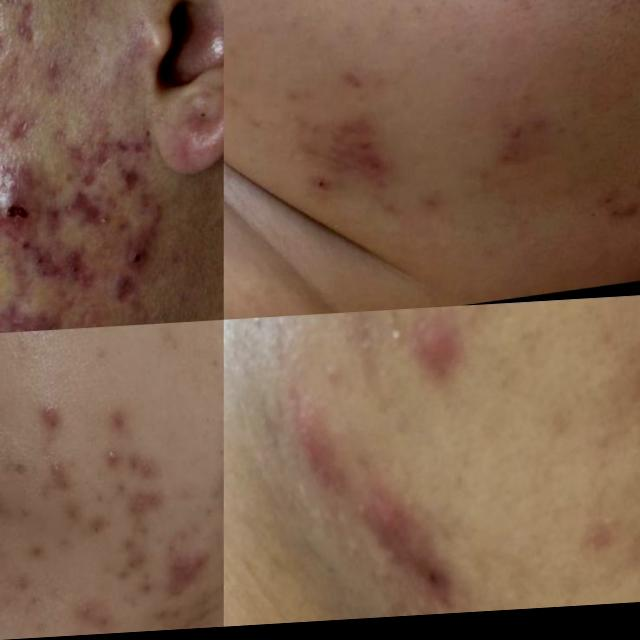8: (402, 313, 476, 392), (152, 548, 222, 609), (19, 380, 75, 445), (65, 595, 106, 631)
blackheads: (360, 482, 466, 623), (292, 413, 348, 507), (0, 160, 54, 243), (342, 123, 394, 197), (488, 125, 542, 181), (67, 188, 115, 246), (4, 0, 52, 54), (590, 190, 640, 239), (105, 126, 164, 159), (118, 163, 157, 203)
dark spot: (85, 491, 109, 512), (208, 440, 224, 470), (115, 482, 131, 503), (189, 323, 215, 334)
